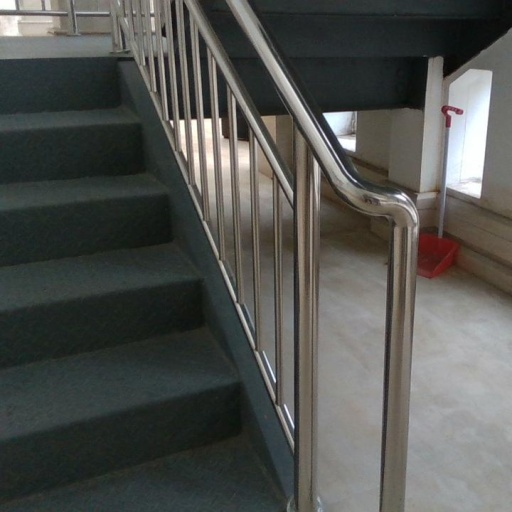Stairs: (0, 36, 292, 512)
